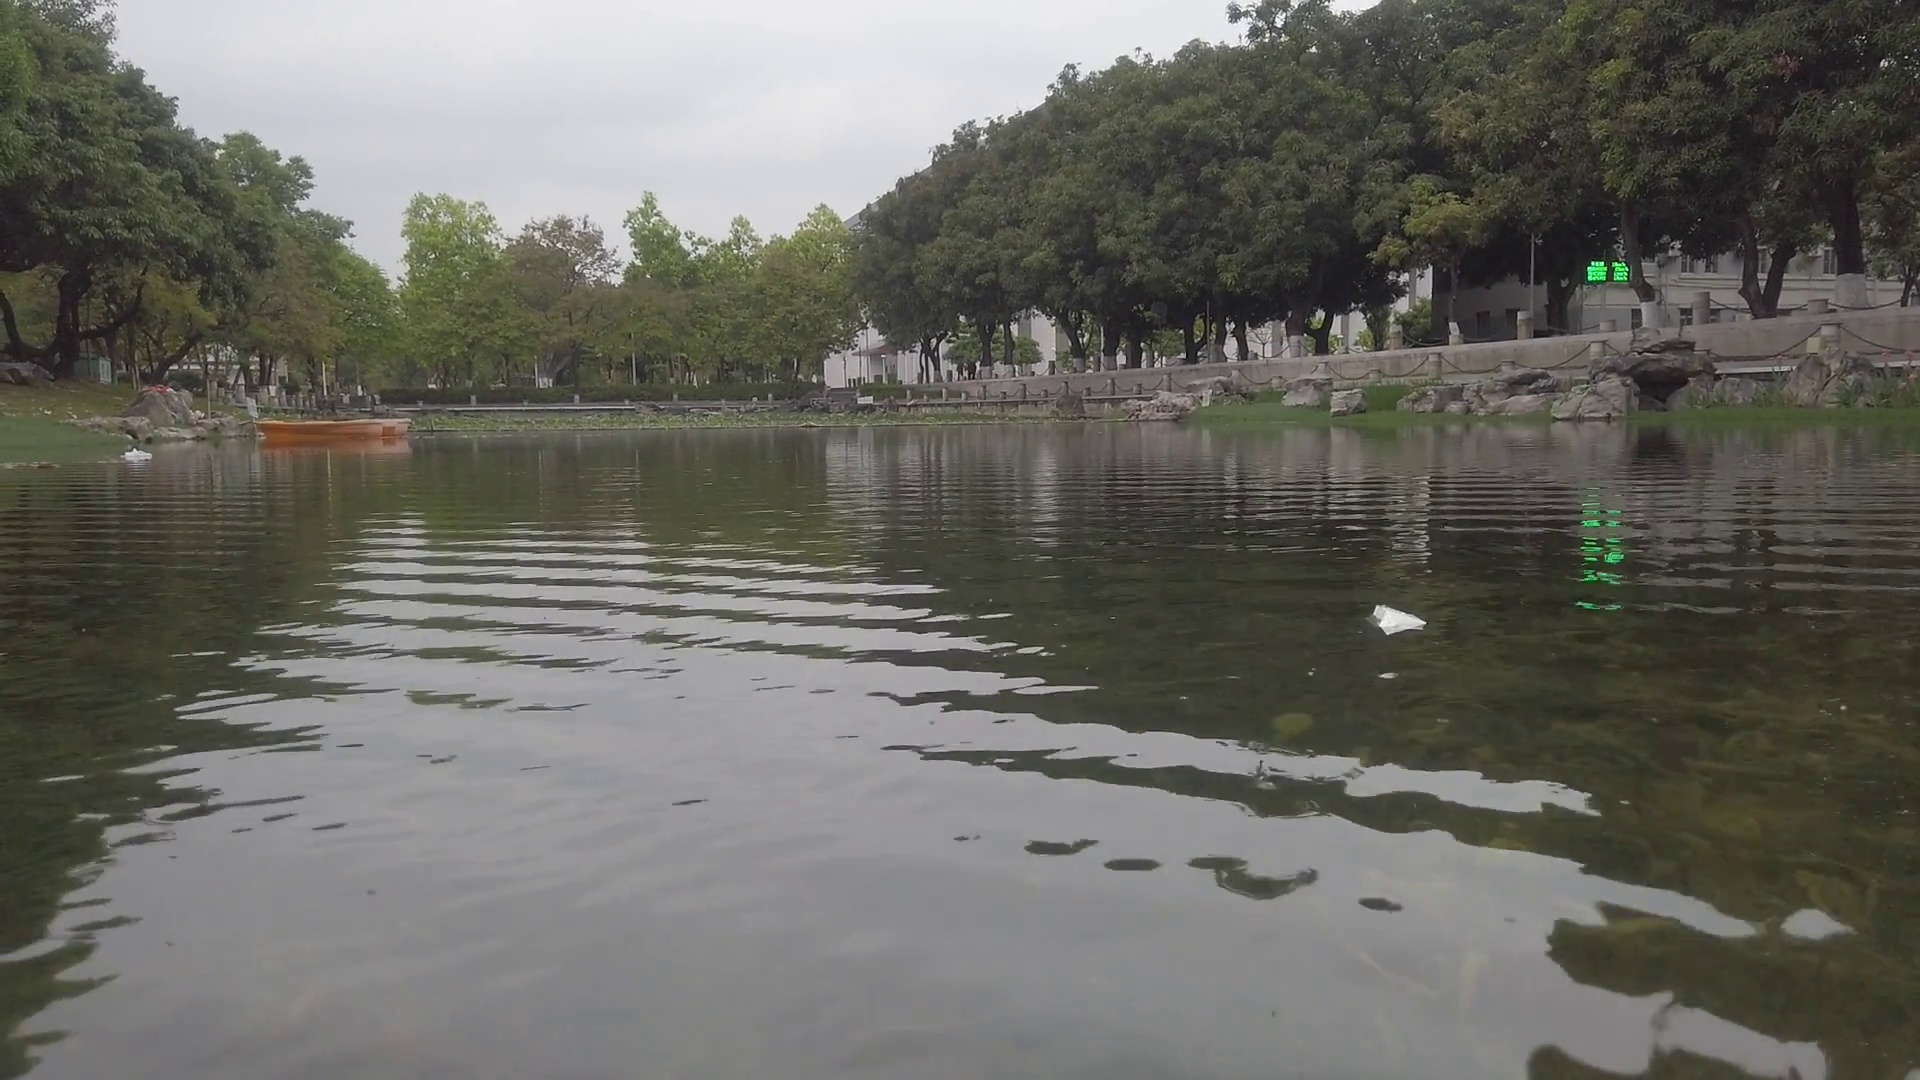paper: (1371, 603, 1423, 636)
plastic: (125, 448, 152, 462)
